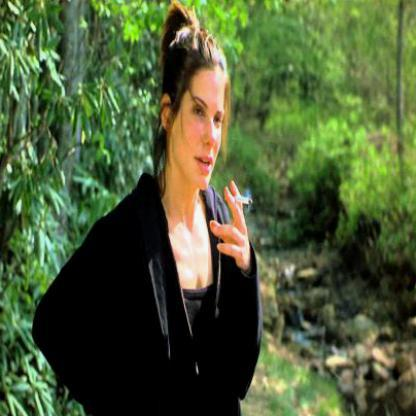cigarette: (236, 196, 254, 209)
person: (102, 15, 252, 415)
